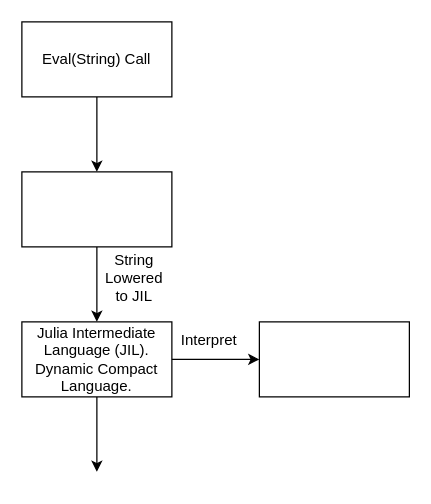
Image size: 431x504. Some labels were removed from this diagram. The shapes that lost their labels are listed below. From the top down, each one's box as (x1, y1, x2, y2) in pixels, then its label:
(21, 171, 172, 247): Julia++ Parser
(258, 321, 409, 397): JIL Execution
